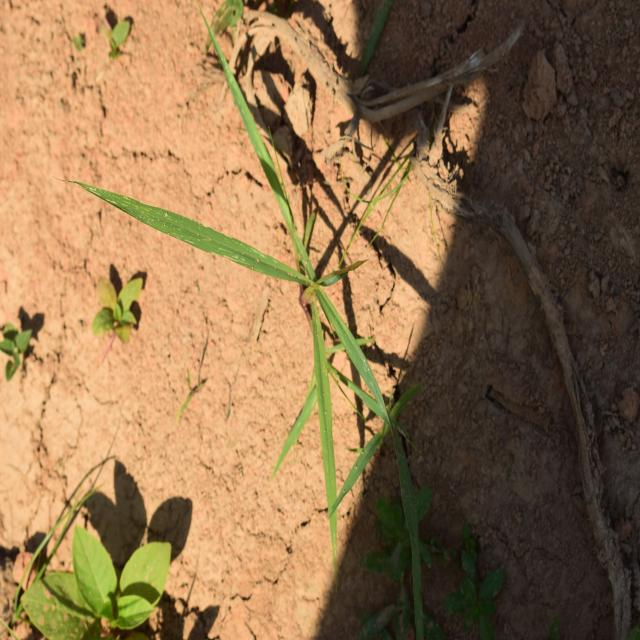green_foxtail: (160, 130, 393, 522)
